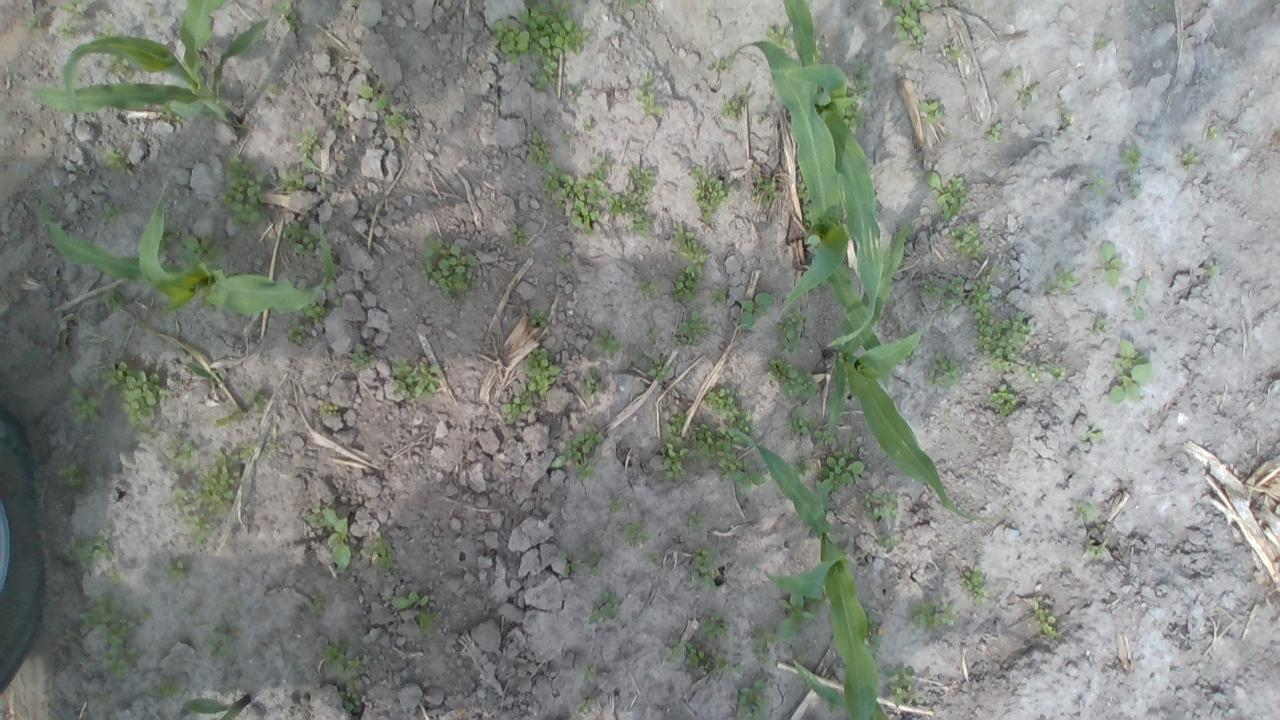Maize: (730, 38, 894, 388), (824, 216, 991, 527), (724, 426, 880, 720), (37, 184, 336, 316), (782, 0, 881, 347), (30, 0, 266, 130), (794, 660, 888, 720), (182, 692, 254, 720)
Weeds: (488, 0, 589, 99), (99, 360, 171, 434), (79, 593, 141, 677), (418, 236, 483, 304), (197, 440, 256, 510), (218, 156, 269, 226), (306, 500, 354, 570), (976, 312, 1031, 373), (690, 423, 746, 481), (550, 424, 606, 481), (670, 222, 709, 302), (689, 163, 736, 224), (1108, 339, 1152, 403), (698, 386, 754, 434), (774, 590, 822, 644), (606, 190, 656, 241), (568, 176, 608, 236), (816, 446, 864, 496), (517, 346, 560, 400), (766, 354, 818, 398), (388, 356, 440, 400), (926, 168, 971, 218), (62, 531, 116, 570), (966, 266, 998, 325), (390, 590, 432, 634), (894, 0, 930, 50), (320, 634, 358, 680), (878, 664, 917, 708), (738, 291, 777, 334), (540, 159, 574, 208), (179, 231, 226, 266), (280, 218, 320, 258), (910, 599, 957, 630), (69, 381, 104, 422), (776, 311, 808, 355), (926, 351, 964, 388), (1098, 239, 1126, 289), (737, 677, 769, 720), (862, 485, 899, 522), (661, 412, 690, 458), (689, 548, 720, 590), (960, 564, 991, 606), (671, 312, 706, 348), (1120, 276, 1148, 320), (732, 461, 768, 495), (638, 70, 664, 116), (588, 592, 625, 624), (1031, 598, 1058, 641), (951, 221, 982, 258), (525, 128, 555, 166), (844, 62, 876, 97), (751, 174, 783, 209), (296, 126, 322, 169), (184, 510, 215, 545), (1044, 263, 1081, 292), (204, 626, 237, 658), (500, 395, 534, 426), (988, 382, 1018, 417), (796, 176, 816, 228), (764, 22, 796, 54), (838, 102, 868, 136), (367, 535, 396, 570), (356, 82, 392, 110), (786, 406, 818, 437), (153, 674, 188, 702), (662, 445, 688, 481), (273, 0, 301, 33), (168, 436, 196, 466), (1117, 144, 1143, 176), (940, 276, 964, 310), (103, 145, 130, 175), (700, 611, 730, 638), (862, 607, 881, 649), (556, 548, 582, 578), (683, 639, 706, 672), (647, 359, 675, 386), (591, 331, 625, 353), (340, 678, 362, 712), (752, 626, 776, 657), (630, 164, 656, 192), (622, 520, 648, 548), (1086, 166, 1108, 199), (276, 168, 306, 192), (106, 50, 130, 79), (98, 288, 124, 314), (918, 98, 946, 122), (717, 96, 745, 120), (300, 298, 328, 322), (350, 342, 372, 372), (1180, 147, 1206, 172), (584, 542, 602, 578), (287, 318, 310, 346), (157, 224, 177, 256), (581, 368, 602, 397), (382, 106, 409, 128), (240, 389, 268, 410), (210, 414, 244, 431), (166, 558, 188, 583), (509, 222, 530, 248), (1044, 363, 1070, 384), (661, 639, 682, 665), (56, 461, 82, 482), (1022, 82, 1040, 110), (711, 54, 738, 72), (170, 485, 188, 512), (590, 154, 610, 178), (707, 653, 730, 673), (308, 590, 329, 611), (923, 274, 943, 296), (1054, 98, 1072, 122), (1087, 537, 1106, 559), (711, 284, 730, 306), (638, 277, 658, 297), (686, 510, 704, 532), (56, 0, 80, 16), (332, 102, 348, 126), (527, 306, 546, 326), (1024, 362, 1042, 383), (984, 121, 1000, 144), (95, 21, 114, 40), (944, 39, 963, 58), (1076, 500, 1096, 517), (1079, 428, 1105, 441), (791, 461, 810, 478), (812, 429, 834, 443), (58, 21, 76, 38), (138, 606, 154, 624), (1002, 66, 1022, 80), (97, 688, 113, 705), (883, 534, 902, 548), (814, 36, 824, 62), (102, 204, 115, 224), (1204, 124, 1218, 142), (824, 700, 842, 714), (1091, 317, 1108, 331), (622, 0, 648, 9), (607, 500, 626, 512), (26, 16, 40, 32), (1206, 262, 1220, 276), (580, 662, 592, 678), (878, 0, 902, 8), (1094, 38, 1108, 50), (323, 405, 338, 416), (759, 104, 768, 122), (646, 551, 660, 562), (111, 574, 122, 586), (320, 177, 328, 191), (645, 328, 656, 338), (334, 295, 344, 306), (558, 254, 566, 266)
